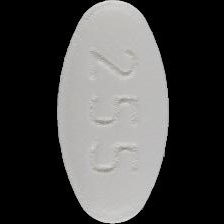43547-255: (0, 0, 224, 224)
